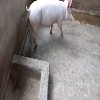heo: (22, 1, 77, 48)
